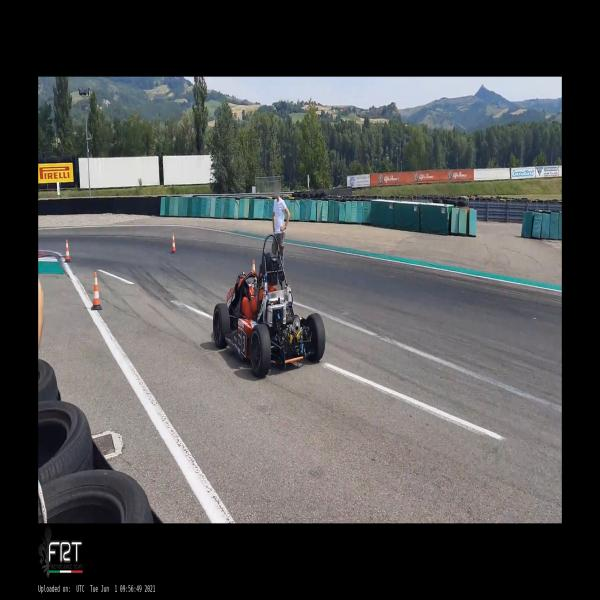large_orange_cone: (91, 272, 102, 310), (64, 240, 72, 262), (171, 232, 177, 254), (252, 260, 255, 272)
